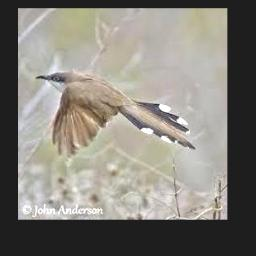Cuckoo: (35, 69, 195, 156)
